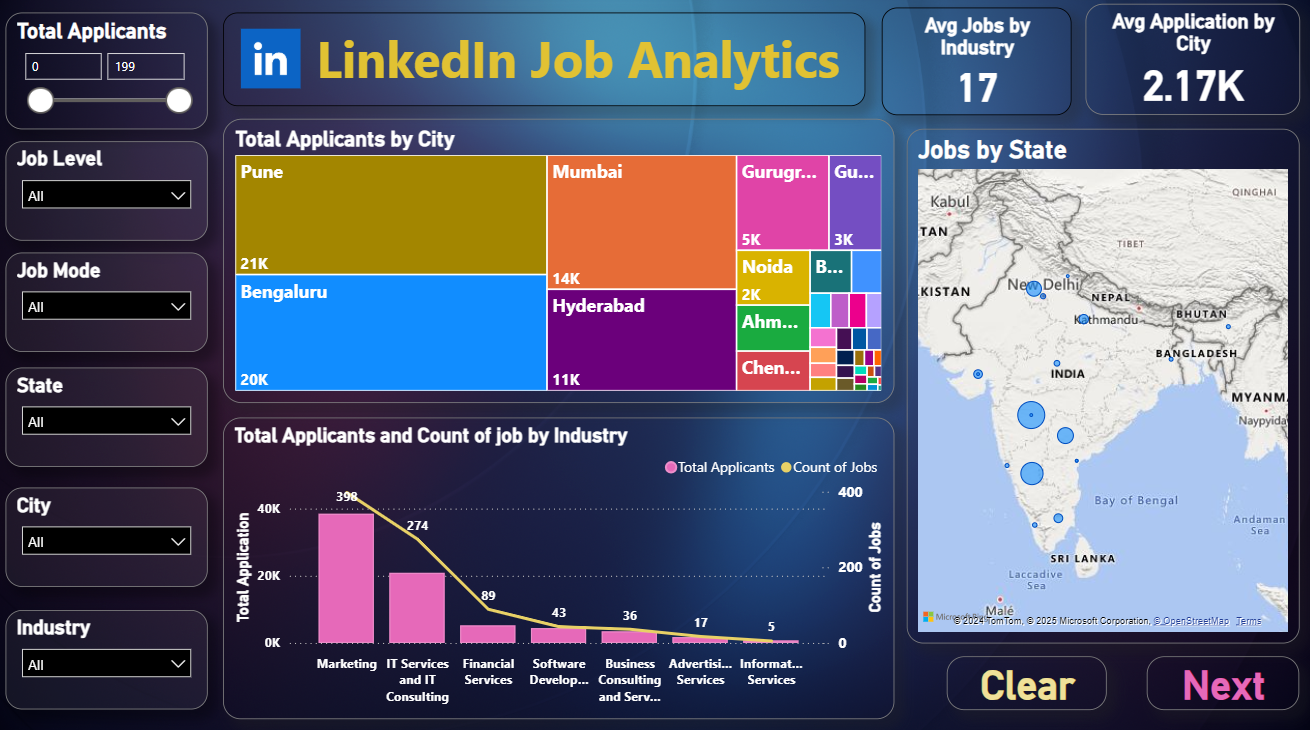

Layout of this report page (visuals, bound fields, positions):
{"tool":"powerbi","page":{"name":"Distribution ","canvas":[1280,720],"ordinal":1},"visuals":[{"type":"slicer","title":"Total Applicants","fields":{"Values":["Dataframe of Linkdin data Analysis.total_applicants"]},"box":[12.3,16.5,194.9,112.5],"z":0},{"type":"slicer","title":"Job Level","fields":{"Values":["Dataframe of Linkdin data Analysis.Job_Level"]},"box":[12.3,141.3,194.9,96.1],"z":1000},{"type":"slicer","title":"Job Mode","fields":{"Values":["Dataframe of Linkdin data Analysis.Job_mode"]},"box":[12.3,248.4,194.9,96.1],"z":2000},{"type":"slicer","title":"State","fields":{"Values":["Dataframe of Linkdin data Analysis.State"]},"box":[12.3,359.5,194.9,96.1],"z":3000},{"type":"slicer","title":"City","fields":{"Values":["Dataframe of Linkdin data Analysis.City"]},"box":[12.3,474.8,194.9,96.1],"z":4000},{"type":"slicer","title":"Industry ","fields":{"Values":["Dataframe of Linkdin data Analysis.industry"]},"box":[12.3,594.2,194.9,96.1],"z":5000},{"type":"textbox","box":[222.3,16.5,620.2,90.6],"z":6000},{"type":"image","box":[233.3,27.4,70,67.2],"z":7000},{"type":"actionButton","title":"Next","box":[1113.5,638.2,147.2,51.9],"z":8000},{"type":"actionButton","title":"Clear","box":[920.5,638.2,154.4,51.9],"z":9000},{"type":"map","title":"Jobs by State","fields":{"Category":["project_file.State"],"Size":["CountNonNull(project_file.job_ids)"]},"box":[881.9,129.1,378.8,497.1],"z":10000},{"type":"card","title":"Avg Application by City","fields":{"Values":["project_file.Average Applications By City"]},"box":[1053.9,8.2,207.2,107],"z":11000},{"type":"lineStackedColumnComboChart","title":"Total Applicants and Count of job by Industry","fields":{"Category":["project_file.industry"],"Y":["Sum(project_file.total_applicants)"],"Y2":["CountNonNull(project_file.job_ids)"]},"box":[222.3,407.5,647.7,290.9],"z":12000},{"type":"treemap","title":"Total Applicants by City","fields":{"Values":["Sum(project_file.total_applicants)"],"Group":["project_file.City"]},"box":[222.3,119.4,647.7,274.4],"z":13000},{"type":"card","title":"Avg Jobs by Industry ","fields":{"Values":["project_file.Avg Jobs By Industry"]},"box":[857.8,12.1,183.4,103.8],"z":13001}]}

Visuals, with their boxes in screenshot pixels (x1, y1, x2, y2), scaled from the page's 1280x720 canvas onto the 1310x730 screenshot:
"Total Applicants" slicer: [13,17,212,131]
"Job Level" slicer: [13,143,212,241]
"Job Mode" slicer: [13,252,212,349]
"State" slicer: [13,364,212,462]
"City" slicer: [13,481,212,579]
"Industry " slicer: [13,602,212,700]
textbox: [228,17,862,109]
image: [239,28,310,96]
"Next" actionButton: [1140,647,1290,700]
"Clear" actionButton: [942,647,1100,700]
"Jobs by State" map: [903,131,1290,635]
"Avg Application by City" card: [1079,8,1291,117]
"Total Applicants and Count of job by Industry" lineStackedColumnComboChart: [228,413,890,708]
"Total Applicants by City" treemap: [228,121,890,399]
"Avg Jobs by Industry " card: [878,12,1066,118]
